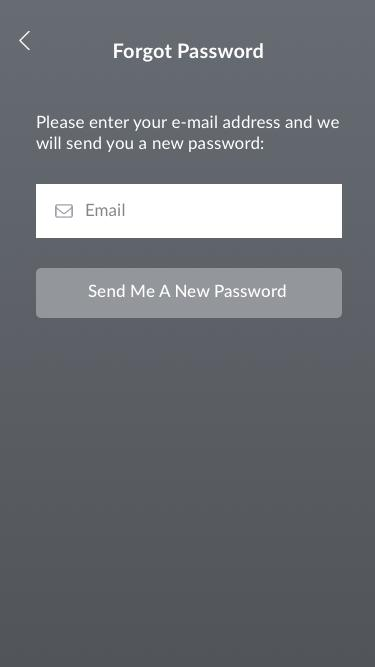EditText: (36, 184, 342, 239)
Icon: (55, 204, 74, 219), (19, 31, 32, 52)
Text: (36, 115, 340, 154), (114, 43, 265, 64), (87, 203, 126, 217)
TextButton: (36, 268, 343, 319)
